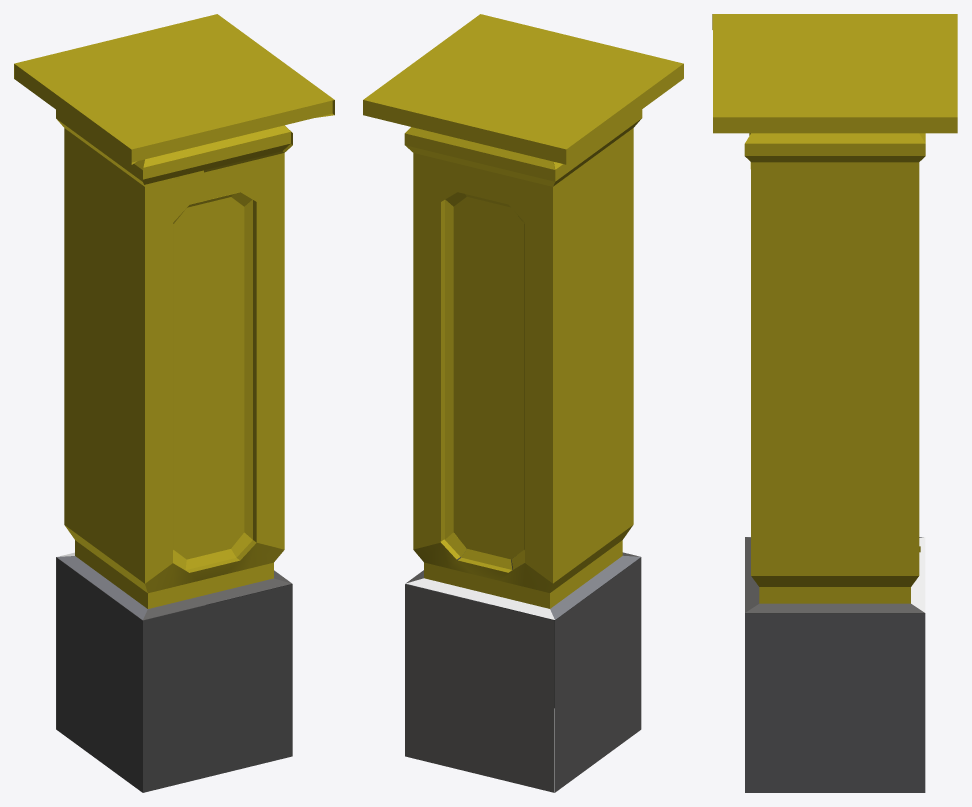
File: Columns.glb
3 views of the same model, side by side, from view 1: azimuth 30°, elevation 25°; view 2: azimuth 150°, elevation 25°; view 3: azimuth 270°, elevation 25° (orthographic). The views are drawn at different scales.
Parts seen in each view (by area): view 1: bridge_wall_low1_lambert1_0.038, bridge_wall_low1_lambert1_0.018, bridge_wall_low1_lambert1_0.059, bridge_wall_low1_lambert1_0.035, bridge_wall_low1_lambert1_0.019, bridge_wall_low1_lambert1_0.022, bridge_wall_low1_lambert1_0.078, bridge_wall_low1_lambert1_0.055, bridge_wall_low1_lambert1_0.027, bridge_wall_low1_lambert1_0.031, bridge_wall_low1_lambert1_0.058, bridge_wall_low1_lambert1_0.043 (+8 smaller); view 2: bridge_wall_low1_lambert1_0.038, bridge_wall_low1_lambert1_0.020, bridge_wall_low1_lambert1_0.060, bridge_wall_low1_lambert1_0.037, bridge_wall_low1_lambert1_0.019, bridge_wall_low1_lambert1_0.022, bridge_wall_low1_lambert1_0.057, bridge_wall_low1_lambert1_0.087, bridge_wall_low1_lambert1_0.029, bridge_wall_low1_lambert1_0.033, bridge_wall_low1_lambert1_0.045, bridge_wall_low1_lambert1_0.058 (+8 smaller); view 3: bridge_wall_low1_lambert1_0.036, bridge_wall_low1_lambert1_0.021, bridge_wall_low1_lambert1_0.019, bridge_wall_low1_lambert1_0.056, bridge_wall_low1_lambert1_0.028, bridge_wall_low1_lambert1_0.044, bridge_wall_low1_lambert1_0.048, bridge_wall_low1_lambert1_0.032, bridge_wall_low1_lambert1_0.024, bridge_wall_low1_lambert1_0.040, bridge_wall_low1_lambert1_0.025, bridge_wall_low1_lambert1_0.023.
Part boxes in pixels (<box>): bridge_wall_low1_lambert1_0.038: <box>64,128,144,583</box>; bridge_wall_low1_lambert1_0.018: <box>143,584,292,792</box>; bridge_wall_low1_lambert1_0.059: <box>173,197,244,559</box>; bridge_wall_low1_lambert1_0.035: <box>145,153,284,583</box>; bridge_wall_low1_lambert1_0.019: <box>14,14,334,149</box>; bridge_wall_low1_lambert1_0.022: <box>56,557,142,792</box>; bridge_wall_low1_lambert1_0.078: <box>244,199,252,539</box>; bridge_wall_low1_lambert1_0.055: <box>131,100,332,162</box>; bridge_wall_low1_lambert1_0.027: <box>148,562,273,608</box>; bridge_wall_low1_lambert1_0.031: <box>145,543,284,593</box>; bridge_wall_low1_lambert1_0.058: <box>14,64,131,164</box>; bridge_wall_low1_lambert1_0.043: <box>143,132,290,179</box>; bridge_wall_low1_lambert1_0.038: <box>553,128,633,583</box>; bridge_wall_low1_lambert1_0.020: <box>405,584,554,792</box>; bridge_wall_low1_lambert1_0.060: <box>453,197,524,559</box>; bridge_wall_low1_lambert1_0.037: <box>413,153,552,583</box>; bridge_wall_low1_lambert1_0.019: <box>363,14,683,149</box>; bridge_wall_low1_lambert1_0.022: <box>555,557,641,792</box>; bridge_wall_low1_lambert1_0.057: <box>363,100,566,164</box>; bridge_wall_low1_lambert1_0.087: <box>445,199,453,539</box>; bridge_wall_low1_lambert1_0.029: <box>424,562,549,608</box>; bridge_wall_low1_lambert1_0.033: <box>413,542,552,592</box>; bridge_wall_low1_lambert1_0.045: <box>404,133,555,181</box>; bridge_wall_low1_lambert1_0.058: <box>566,63,683,163</box>; bridge_wall_low1_lambert1_0.036: <box>751,162,919,575</box>; bridge_wall_low1_lambert1_0.021: <box>745,613,925,792</box>; bridge_wall_low1_lambert1_0.019: <box>713,14,957,117</box>; bridge_wall_low1_lambert1_0.056: <box>713,117,957,133</box>; bridge_wall_low1_lambert1_0.028: <box>759,587,910,603</box>; bridge_wall_low1_lambert1_0.044: <box>744,143,925,155</box>; bridge_wall_low1_lambert1_0.048: <box>745,133,925,143</box>; bridge_wall_low1_lambert1_0.032: <box>751,576,918,586</box>; bridge_wall_low1_lambert1_0.024: <box>745,603,924,612</box>; bridge_wall_low1_lambert1_0.040: <box>745,156,925,162</box>; bridge_wall_low1_lambert1_0.025: <box>911,537,925,612</box>; bridge_wall_low1_lambert1_0.023: <box>745,537,759,612</box>.
Bounding box in the file's own units: 85.74 × 266 × 85.87.
